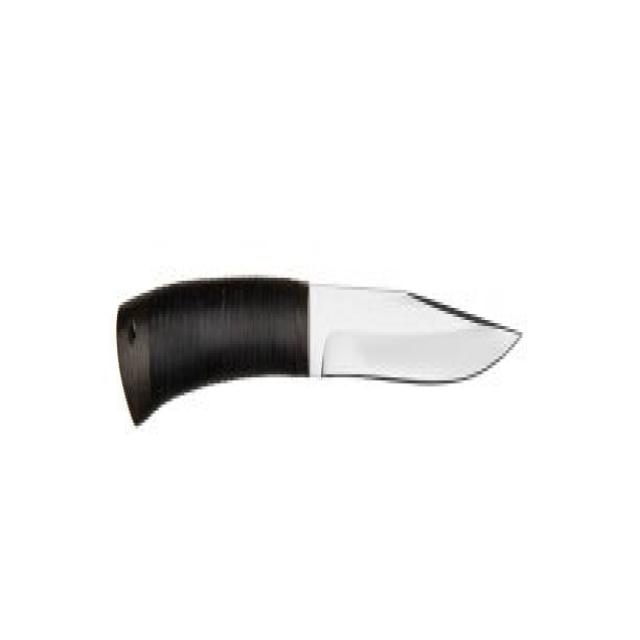knife: (110, 258, 533, 444)
